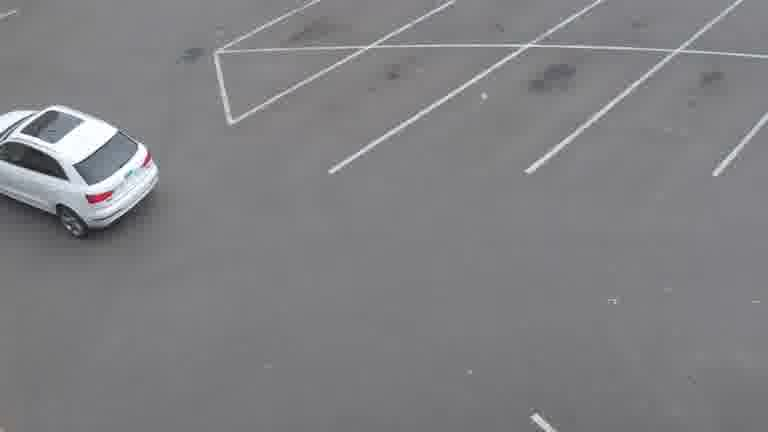person: (0, 105, 160, 239)
